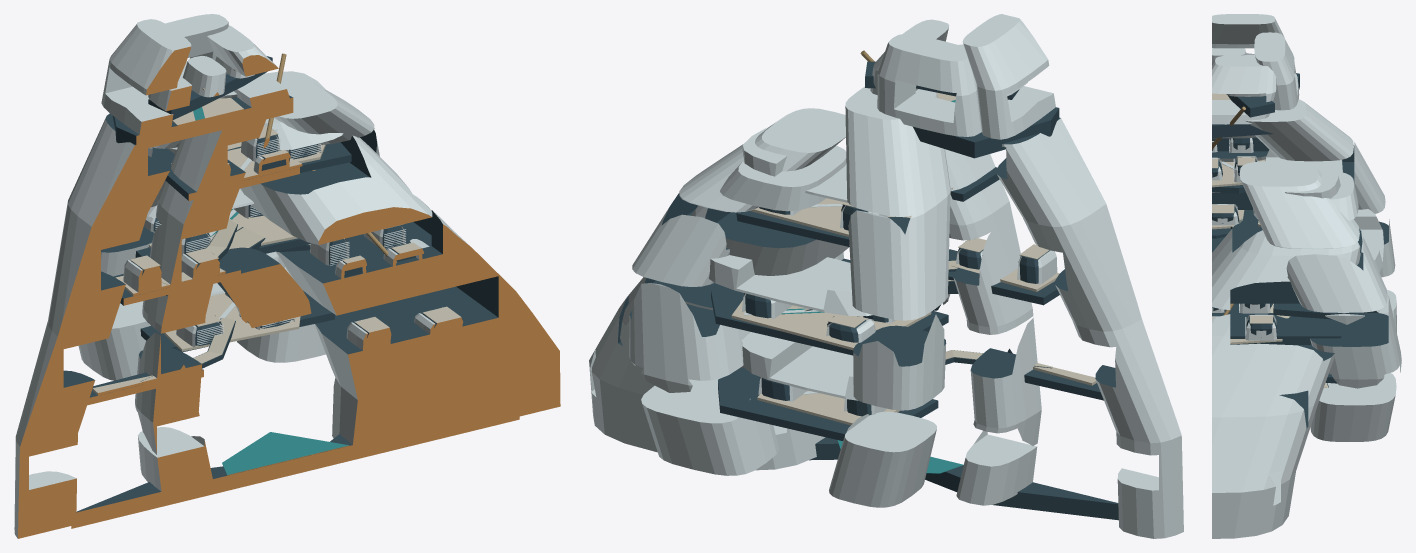
The model's file is SECTION_XZ_Y500.glb.
3 views of the same model, side by side, from view 1: azimuth 30°, elevation 25°; view 2: azimuth 150°, elevation 25°; view 3: azimuth 270°, elevation 25° (orthographic). The views are drawn at different scales.
Parts seen in each view (by area): view 1: R2_EAST_INLAND_CIVILIZATION, R1_WEST_OCEAN_RIDGE, R1_WEST_INNER_RIDGE, C_LOWEST_URBAN_DELTA, R2_ZENITH_WEST_LIVED_CITY, R1_REAR_EAST_RIDGE, R1_REAR_WEST_RIDGE, R2_INNER_METROPOLITAN_PENINSULA, R2_ZENITH_EAST_LIVED_CITY, R2_ZENITH_METROPOLITAN_GROUND, C_SHARED_INNER_SEA, C_R0_INNER_ORCHARD_public_ground (+13 smaller); view 2: R1_REAR_WEST_RIDGE, R1_REAR_EAST_RIDGE, R1_WEST_OCEAN_RIDGE, R1_WEST_INNER_RIDGE, R2_EAST_INLAND_CIVILIZATION, R2_ZENITH_REAR_CIVILIZATION, R2_ZENITH_WEST_LIVED_CITY, R1_REAR_CIVIC_OVERWORLD.001, R1_REAR_CIVIC_OVERWORLD, R1_REAR_LOWER_thick_inhabited_ground, C_LOWEST_URBAN_DELTA, C_R1_DEEP_METROPOLIS_public_ground (+9 smaller); view 3: R2_EAST_INLAND_CIVILIZATION, R1_REAR_EAST_RIDGE, R1_REAR_WEST_RIDGE, R2_ZENITH_EAST_LIVED_CITY, R2_ZENITH_REAR_CIVILIZATION, R2_ZENITH_WEST_LIVED_CITY, R1_WEST_INNER_RIDGE, R1_REAR_CIVIC_OVERWORLD.002, R1_REAR_CIVIC_OVERWORLD.001, R2_ZENITH_ARRIVAL_CONTINENT, R2_ZENITH_METROPOLITAN_GROUND, R1_REAR_MID_thick_inhabited_ground (+6 smaller).
Boxes of the visible parts, box(x1,y1,x2,y2) form: R2_EAST_INLAND_CIVILIZATION: box(240, 118, 560, 457); R1_WEST_OCEAN_RIDGE: box(14, 113, 189, 538); R1_WEST_INNER_RIDGE: box(135, 112, 268, 493); C_LOWEST_URBAN_DELTA: box(71, 404, 519, 528); R2_ZENITH_WEST_LIVED_CITY: box(101, 19, 191, 134); R1_REAR_EAST_RIDGE: box(237, 76, 379, 362); R1_REAR_WEST_RIDGE: box(78, 91, 237, 380); R2_INNER_METROPOLITAN_PENINSULA: box(217, 247, 311, 327); R2_ZENITH_EAST_LIVED_CITY: box(207, 25, 289, 107); R2_ZENITH_METROPOLITAN_GROUND: box(112, 95, 293, 149); C_SHARED_INNER_SEA: box(222, 432, 349, 475); C_R0_INNER_ORCHARD_public_ground: box(163, 293, 300, 351); R1_REAR_WEST_RIDGE: box(829, 86, 950, 507); R1_REAR_EAST_RIDGE: box(629, 108, 845, 475); R1_WEST_OCEAN_RIDGE: box(996, 117, 1183, 538); R1_WEST_INNER_RIDGE: box(945, 149, 1041, 505); R2_EAST_INLAND_CIVILIZATION: box(589, 145, 850, 470); R2_ZENITH_REAR_CIVILIZATION: box(877, 34, 981, 136); R2_ZENITH_WEST_LIVED_CITY: box(962, 14, 1055, 139); R1_REAR_CIVIC_OVERWORLD.001: box(709, 255, 872, 316); R1_REAR_CIVIC_OVERWORLD: box(742, 332, 857, 400); R1_REAR_LOWER_thick_inhabited_ground: box(718, 368, 938, 440); C_LOWEST_URBAN_DELTA: box(809, 437, 1118, 520); C_R1_DEEP_METROPOLIS_public_ground: box(731, 300, 931, 350); R2_EAST_INLAND_CIVILIZATION: box(1212, 170, 1362, 538); R1_REAR_EAST_RIDGE: box(1239, 161, 1401, 441); R1_REAR_WEST_RIDGE: box(1245, 99, 1396, 332); R2_ZENITH_EAST_LIVED_CITY: box(1212, 55, 1276, 124); R2_ZENITH_REAR_CIVILIZATION: box(1254, 32, 1299, 110); R2_ZENITH_WEST_LIVED_CITY: box(1212, 14, 1284, 55); R1_WEST_INNER_RIDGE: box(1212, 135, 1269, 222); R1_REAR_CIVIC_OVERWORLD.002: box(1265, 149, 1342, 198); R1_REAR_CIVIC_OVERWORLD.001: box(1354, 209, 1384, 272); R2_ZENITH_ARRIVAL_CONTINENT: box(1228, 95, 1274, 117); R2_ZENITH_METROPOLITAN_GROUND: box(1212, 73, 1299, 138); R1_REAR_MID_thick_inhabited_ground: box(1273, 303, 1357, 319).
Bounding box in the file's own units: 5600 × 4470 × 2070.
